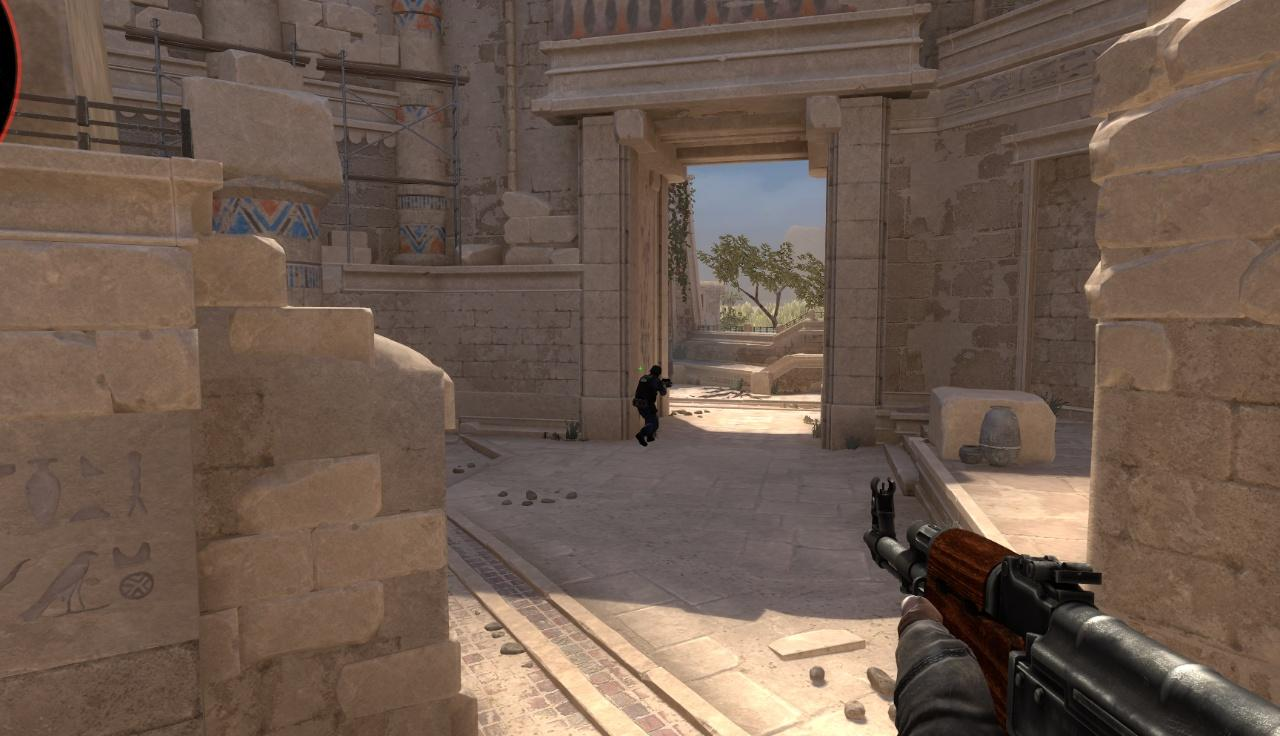ct: (637, 365, 661, 443)
cthead: (650, 365, 661, 376)
rifle: (860, 476, 1280, 736)
